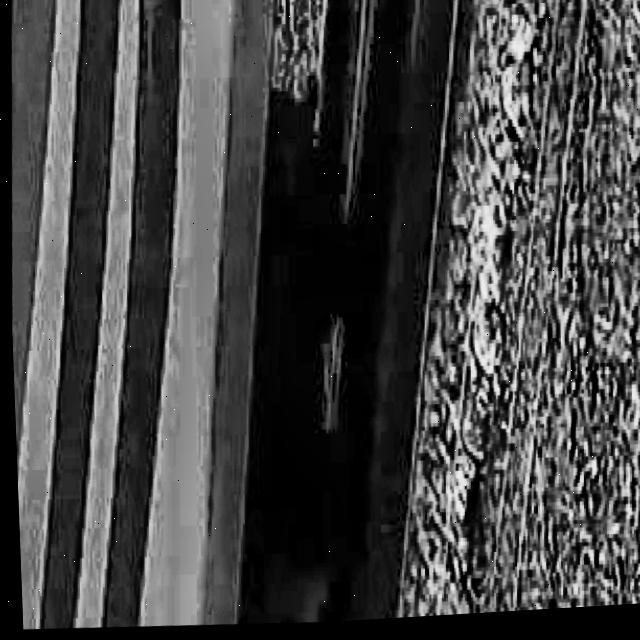Kereta: (0, 0, 442, 640)
